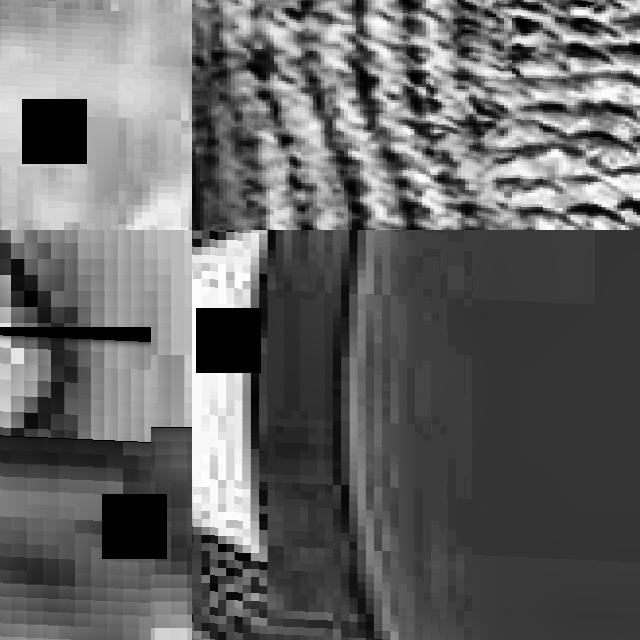crab: (192, 230, 640, 640)
fish: (192, 0, 640, 230), (0, 327, 151, 640), (0, 0, 192, 230)
